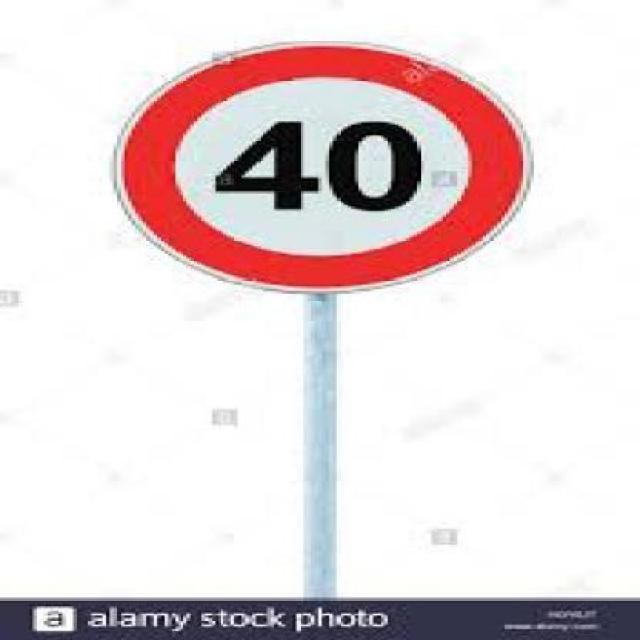forb_speed_over_40: (132, 44, 519, 285)
